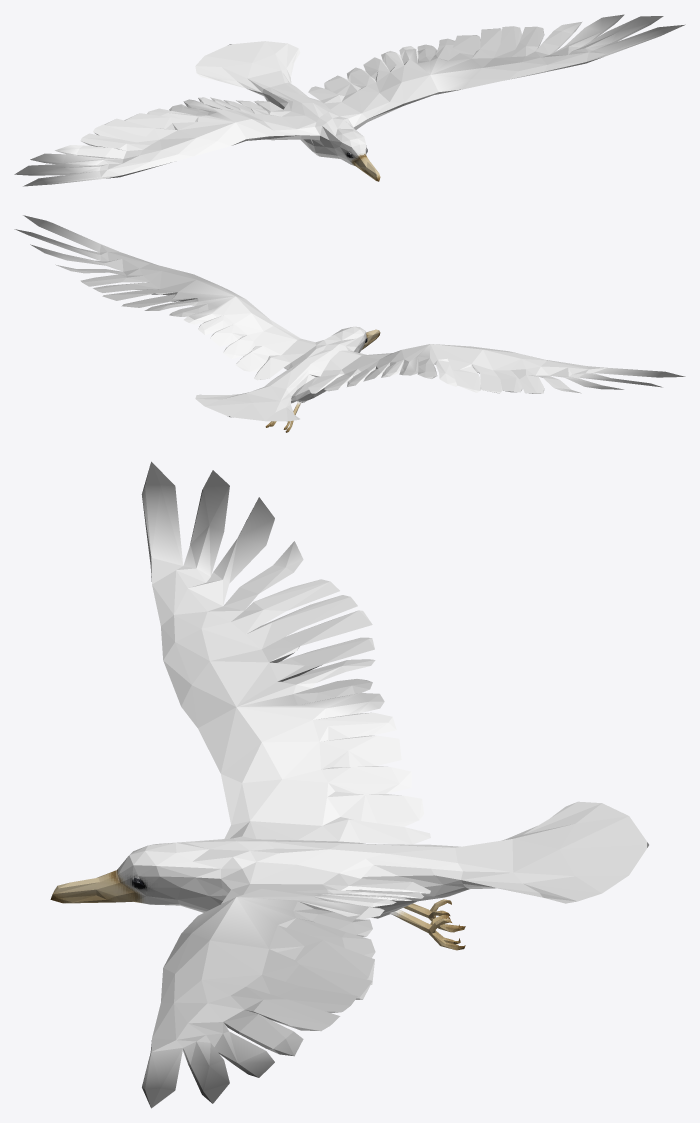
The model's file is gull.glb.
3 renders of one model, top to bottom at view 1: azimuth 30°, elevation 25°; view 2: azimuth 150°, elevation 25°; view 3: azimuth 270°, elevation 25°, orthographic. The views are drawn at different scales.
Parts seen in each view (by area): view 1: gull; view 2: gull; view 3: gull.
Part boxes in pixels (<box>): gull: <box>14,14,685,186</box>; gull: <box>14,215,685,432</box>; gull: <box>50,461,648,1108</box>.
Bounding box in the file's own units: 1.3 × 0.1463 × 0.5092.
Materials: 1 (1 with a texture image).
